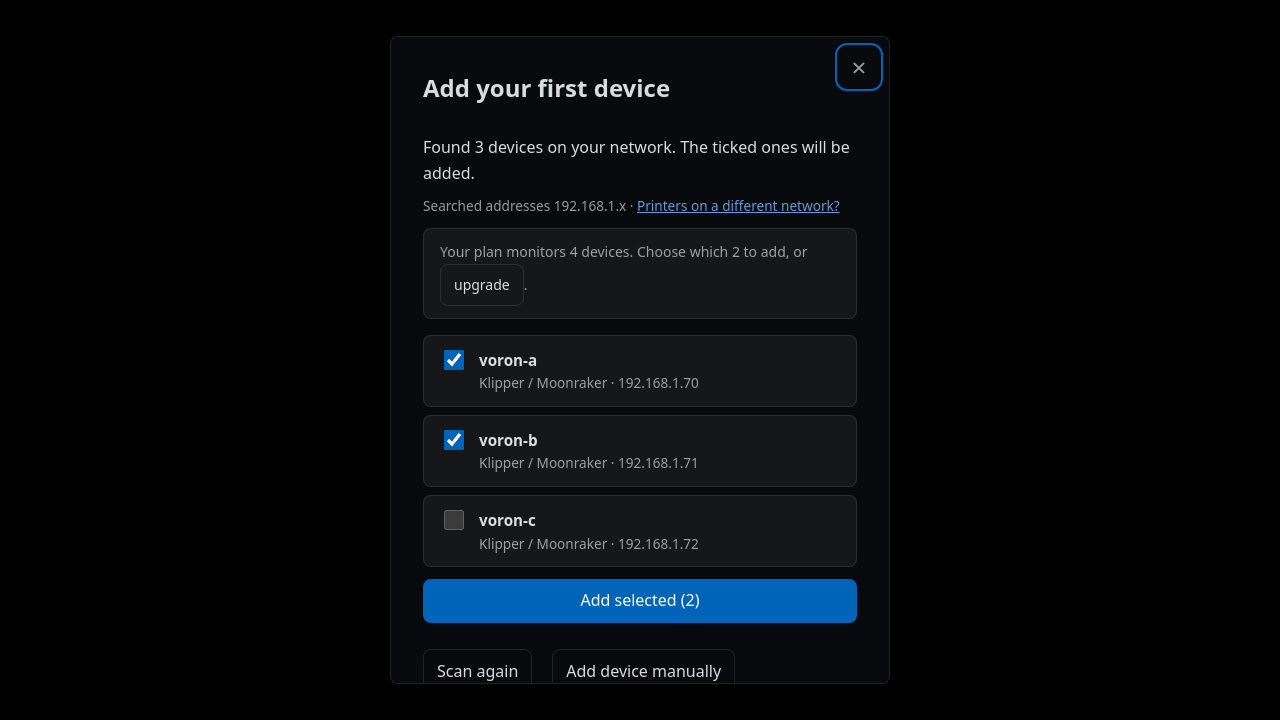
Test case: SetupWizard v2 › partial add: the plan cap counts pending rows only and Retry failed re-posts the failed one
Expected: the checkbox named "Select voron-c" is disabled, [444,510,464,530]
Expected: the checkbox named "Select voron-a" is checked, [444,350,464,370]
Step 1. Click the button "Add selected (2)" → [640, 601], box [423,579,857,623]
(page scrolled)
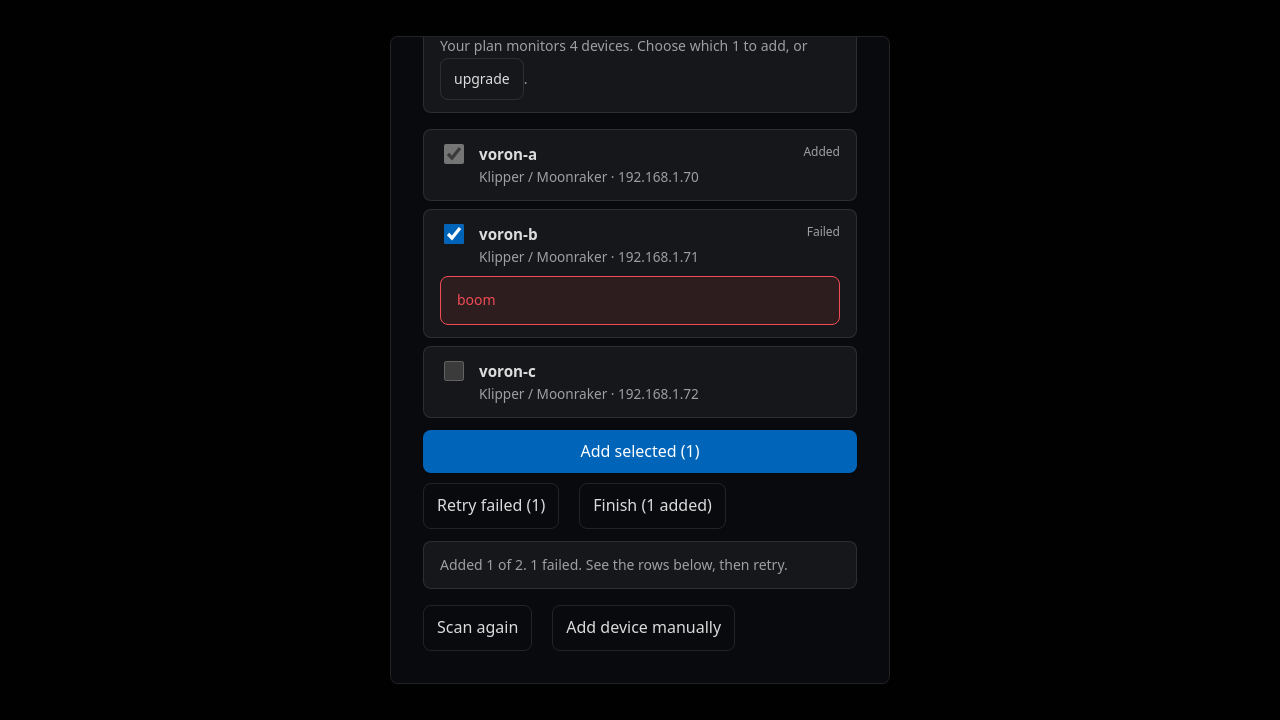
Expected: the checkbox named "Select voron-b" is checked, [444,224,464,244]
Expected: the checkbox named "Select voron-c" is disabled, [444,361,464,381]
Step 2. Click the button "Retry failed (1)" → [491, 506], box [423,483,559,529]
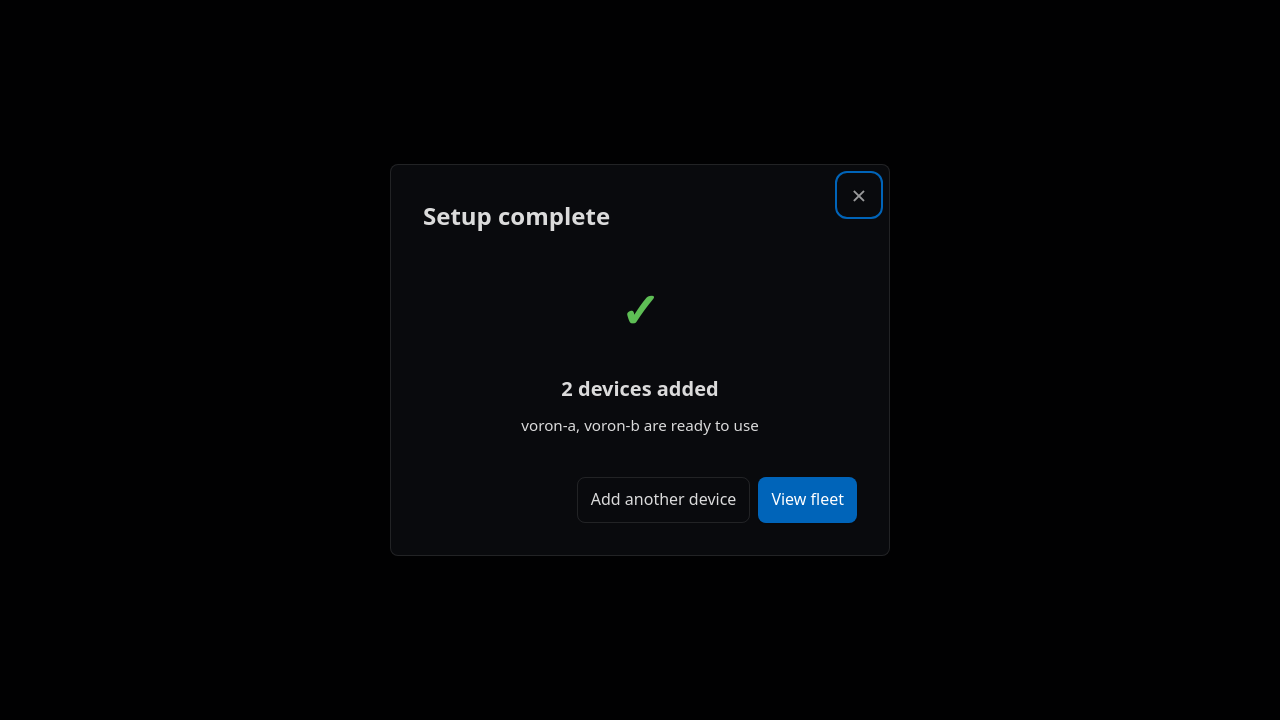
Result: the heading "2 devices added" is shown at [561,375,719,402]
